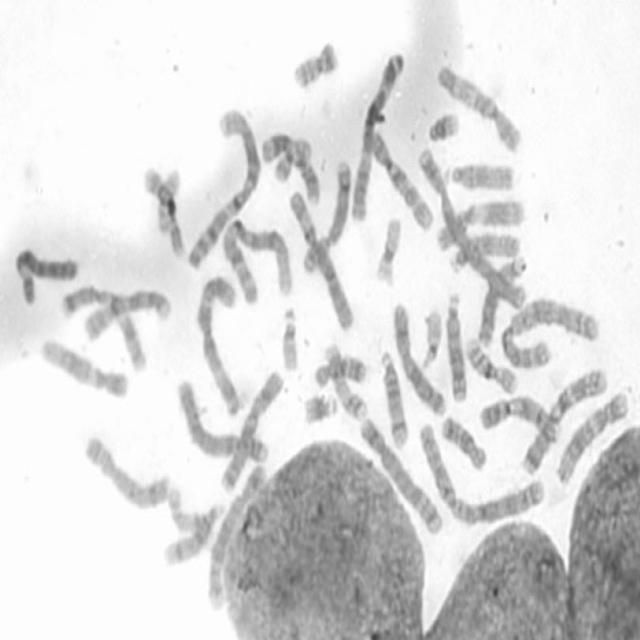A1: (184, 104, 262, 272), (218, 215, 294, 303)
A2: (416, 418, 547, 528), (497, 292, 600, 372)
A3: (348, 48, 405, 224), (195, 272, 242, 417)
B4: (414, 146, 528, 311), (174, 373, 272, 465)
B5: (356, 413, 445, 536), (204, 457, 268, 615)
C10: (433, 60, 522, 155), (367, 125, 434, 233)
C11: (434, 196, 526, 251), (259, 127, 320, 207)
C12: (552, 386, 630, 486), (38, 334, 129, 400)
C6: (285, 187, 357, 333), (11, 243, 80, 308)
C7: (518, 364, 609, 478), (58, 278, 148, 374)
C8: (81, 432, 172, 510), (300, 157, 351, 276)
C9: (80, 286, 174, 343), (477, 393, 563, 447)
D13: (473, 250, 528, 350), (442, 288, 468, 403)
D14: (160, 498, 226, 569), (377, 344, 410, 450)
D15: (446, 228, 520, 276), (441, 157, 516, 192)
E16: (141, 160, 186, 260), (461, 332, 519, 394)
E17: (322, 338, 368, 422), (163, 485, 216, 550)
E18: (437, 409, 489, 474), (312, 352, 367, 388)
F19: (152, 161, 184, 253), (373, 213, 402, 286)
F20: (289, 35, 341, 91), (272, 134, 314, 184)
G21: (300, 389, 339, 428), (424, 107, 460, 145)
G22: (419, 304, 442, 370), (279, 300, 299, 372)
X: (216, 366, 283, 494), (391, 298, 447, 419)
